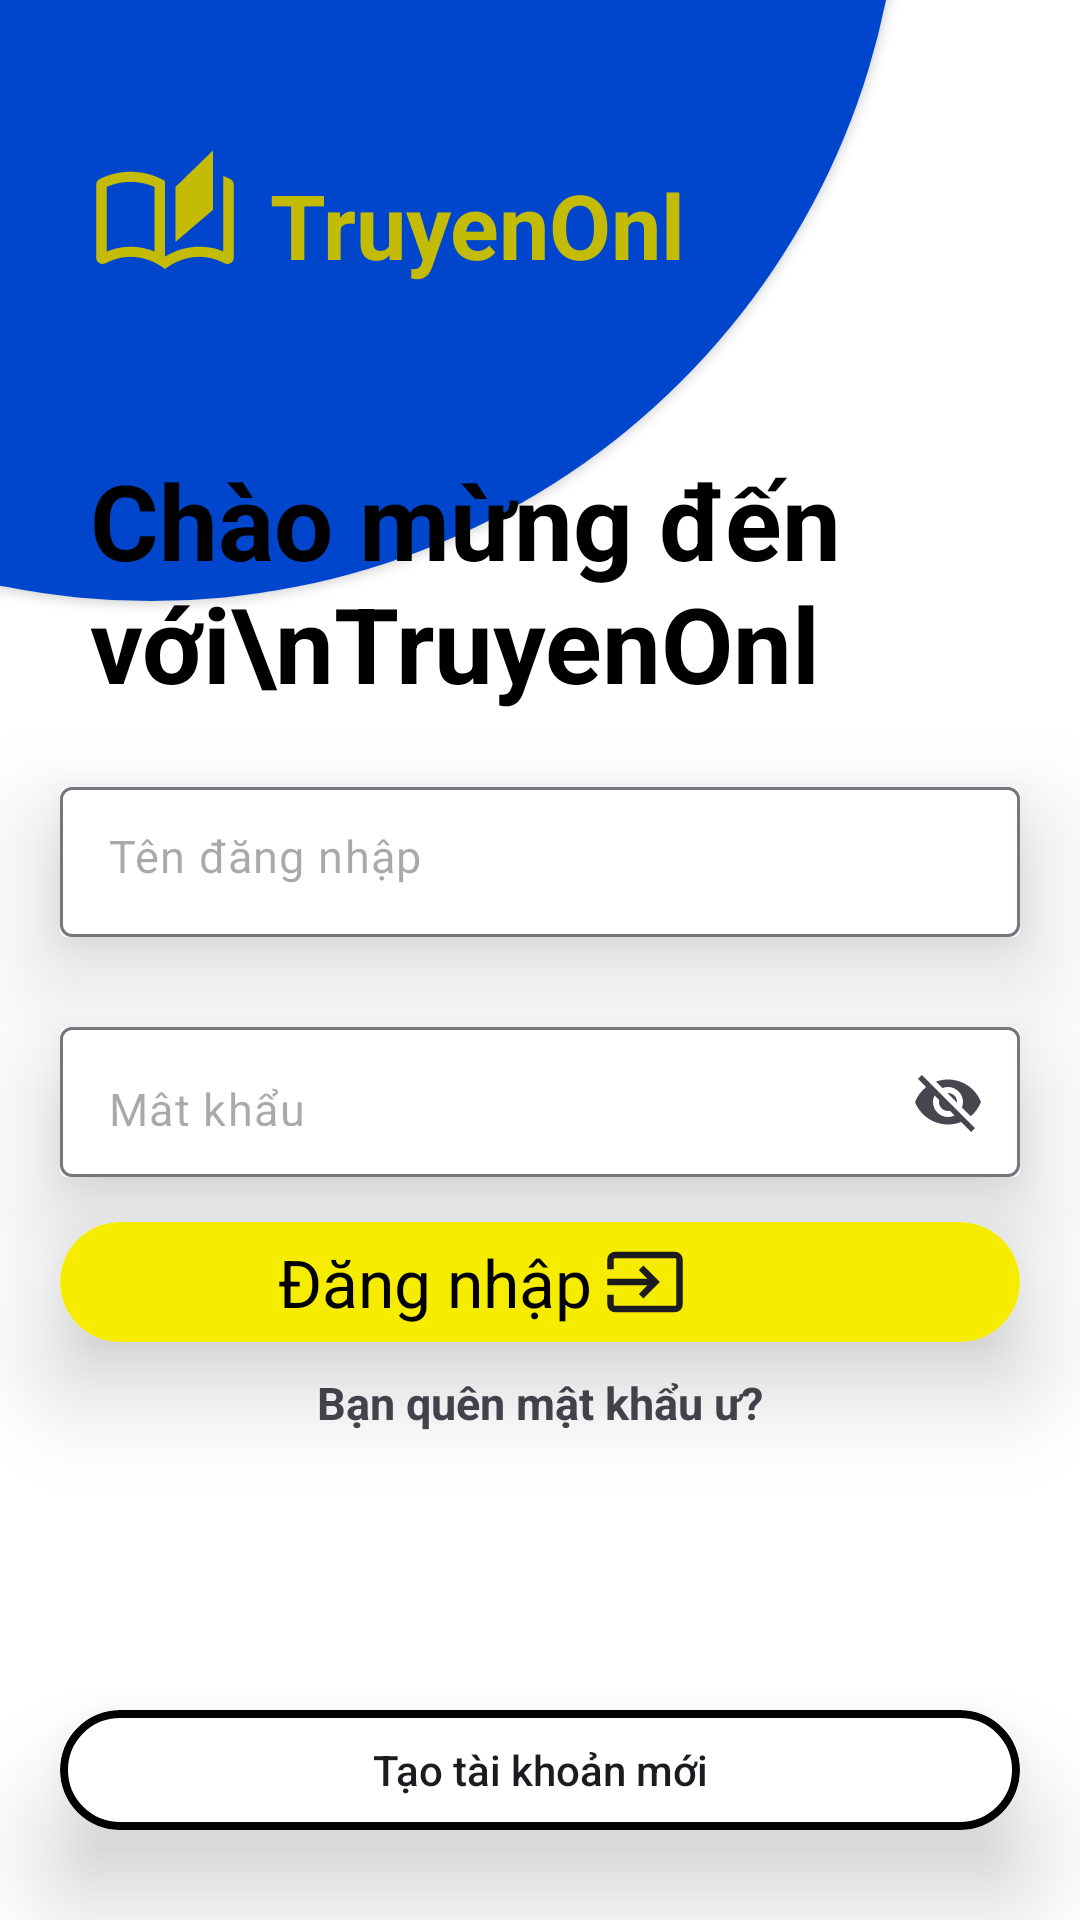

Screen size 1080x1920. Icon name, then its center in pixels as [x,y]:
inputlogin: [645,1282]
